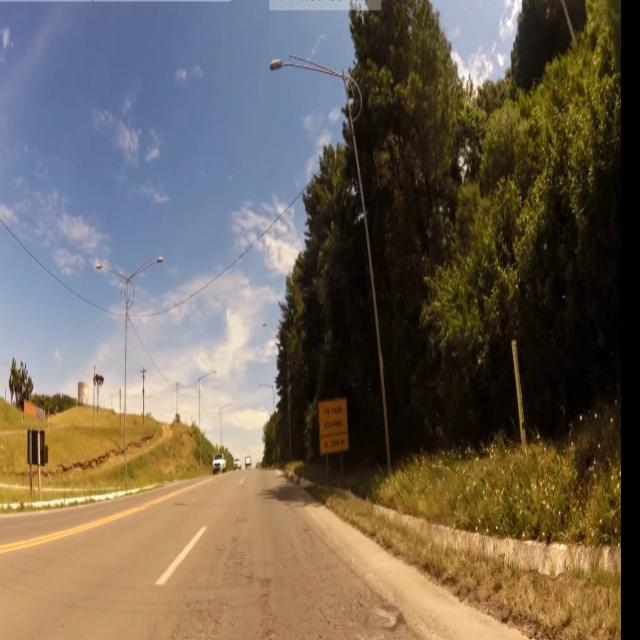ESP-20: (317, 396, 352, 463)
